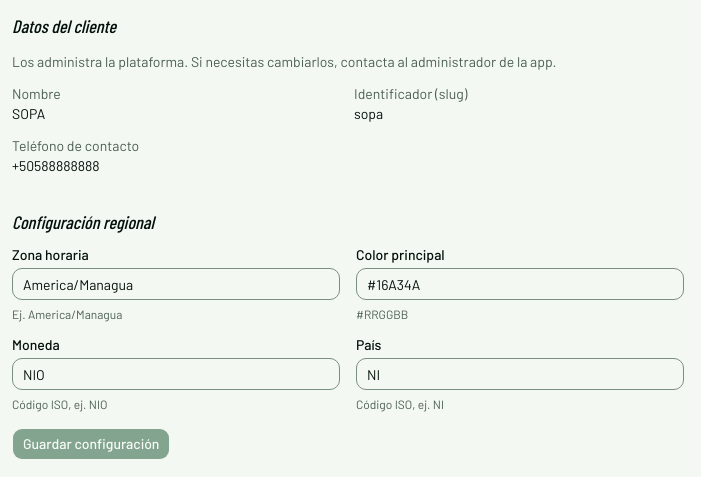
Test: ConfiguracionCliente (portal admin) › no deja un campo vacío
The width and height of the screenshot is (701, 477).
Clear the field labelled "Moneda" at [176, 374], box [12,358,340,390]
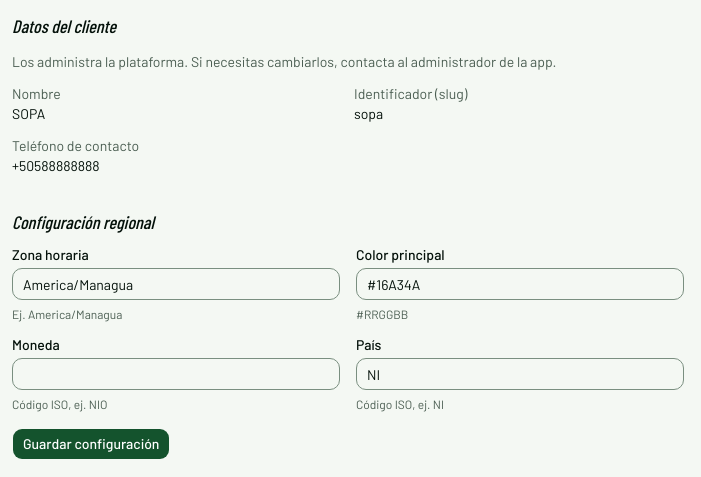
Click the button "Guardar configuración".
click(91, 444)  # box [12,428,170,460]
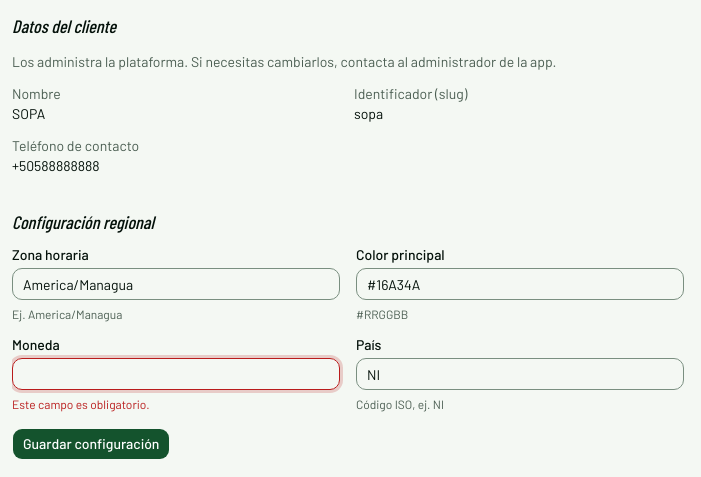
Check: the text "Este campo es obligatorio." is shown, box [12,397,150,411]
